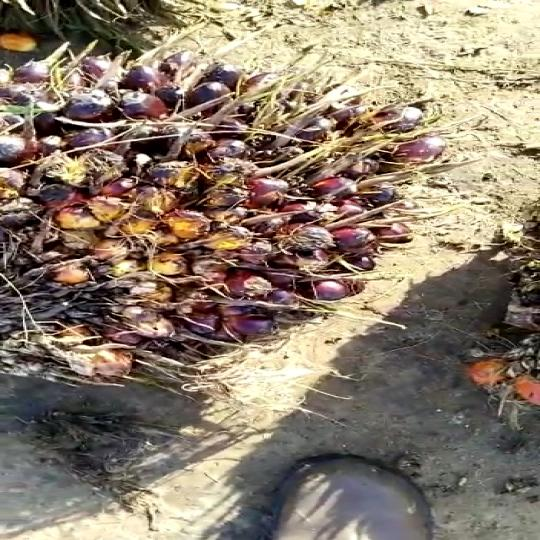kurang masak: (0, 37, 452, 405)
